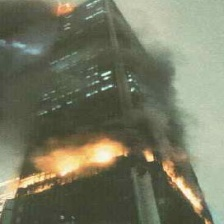fire: (144, 150, 212, 224), (28, 141, 134, 172), (49, 1, 81, 23)
smoke: (132, 33, 195, 150), (1, 2, 45, 143)
